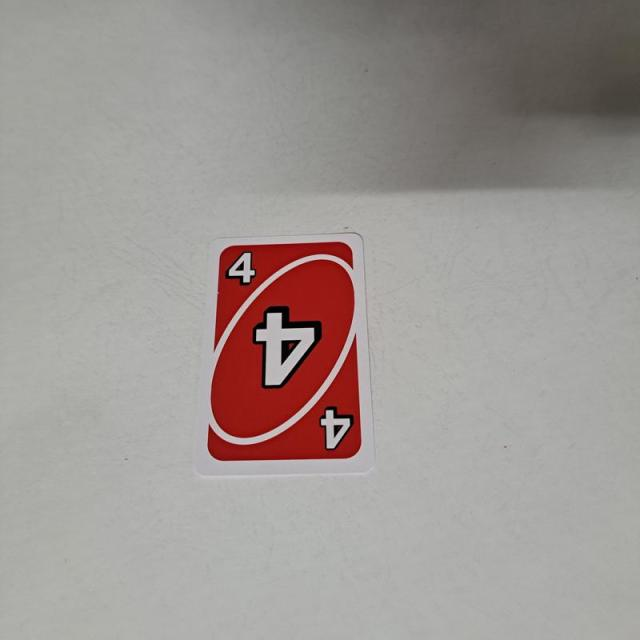Number_4: (222, 244, 258, 287)
Red_Card: (202, 236, 371, 469)
